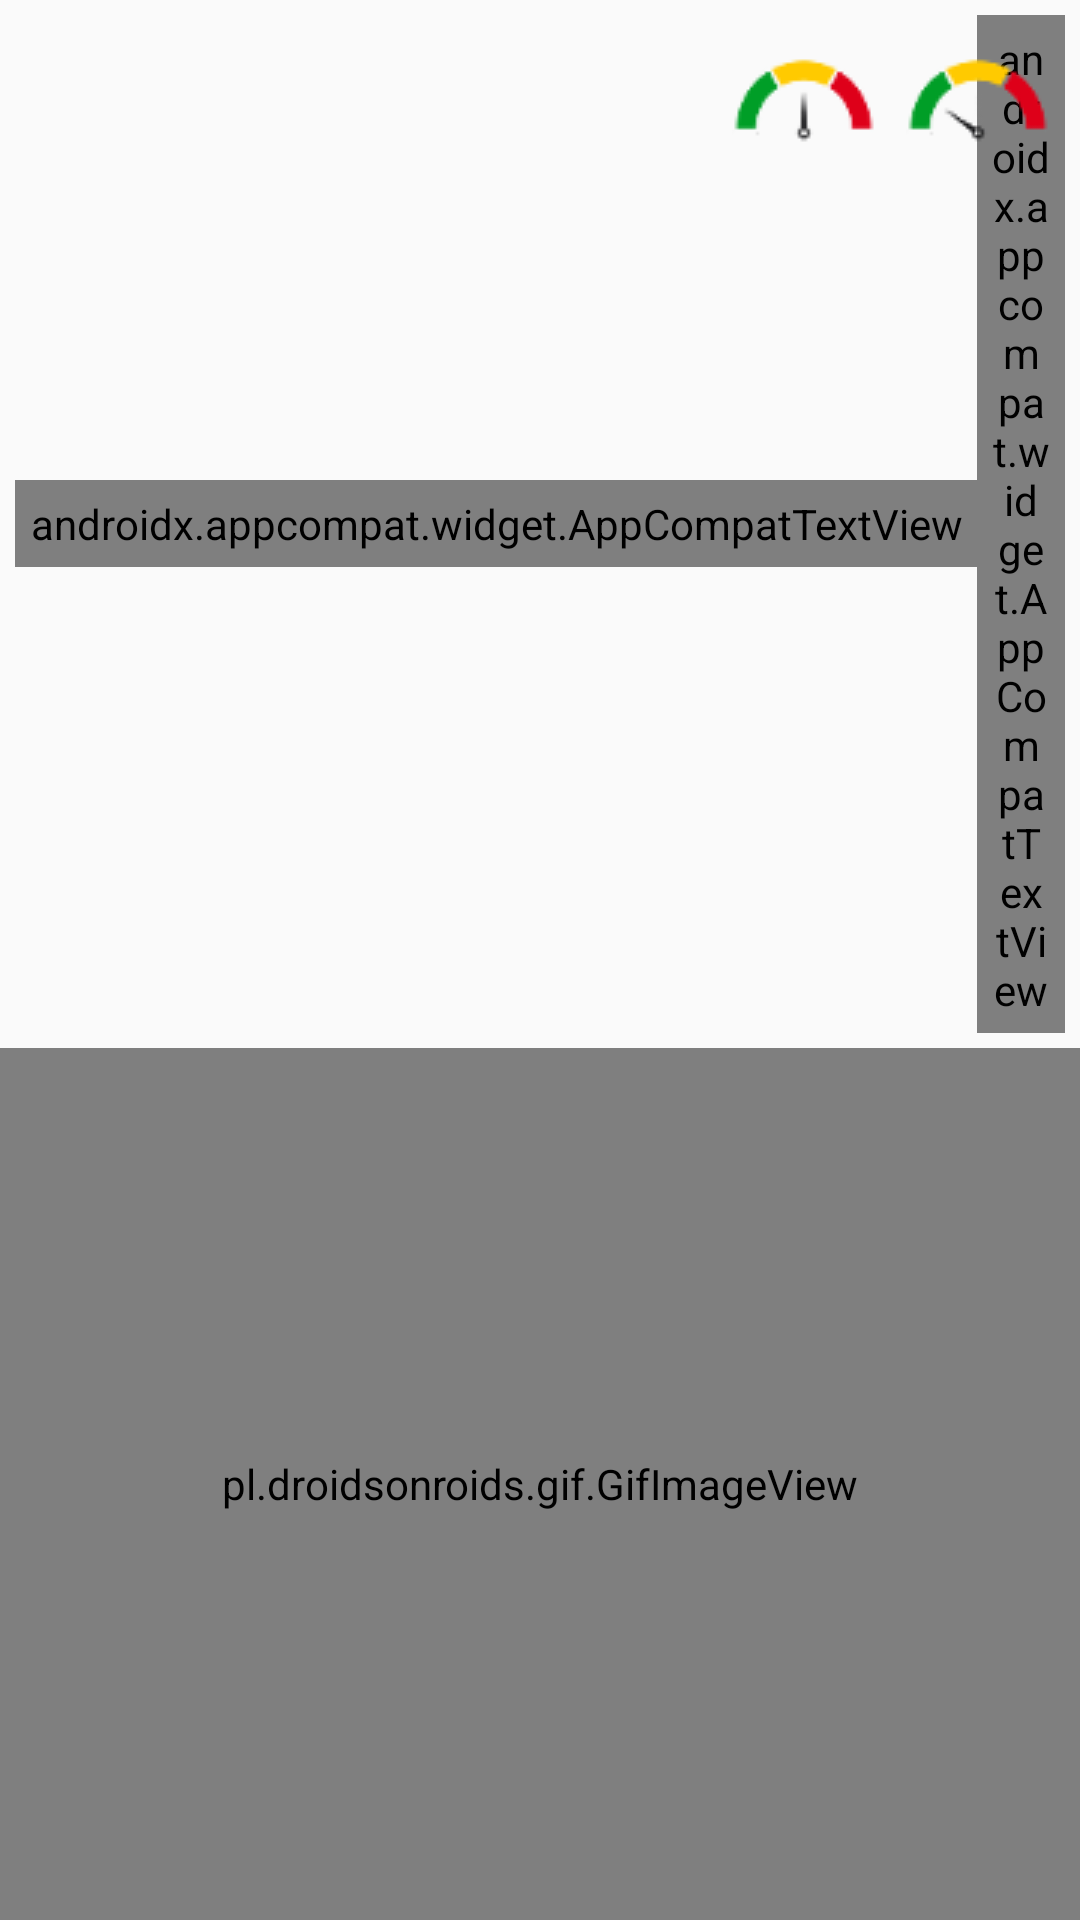

Named icons in this screenshot (1080 × 1920) and their centers, (x=x, y=y):
speed medium: (x=804, y=100)
